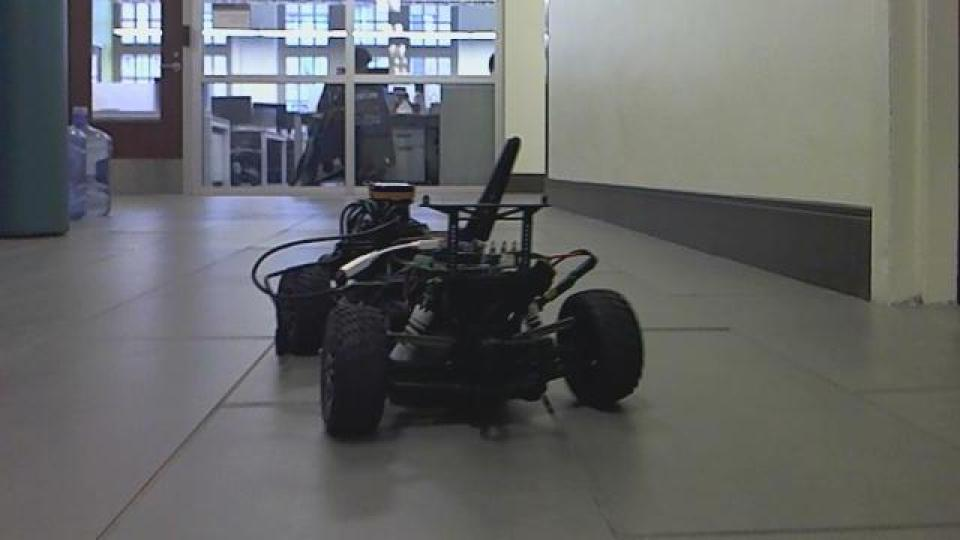car: (249, 135, 648, 443)
